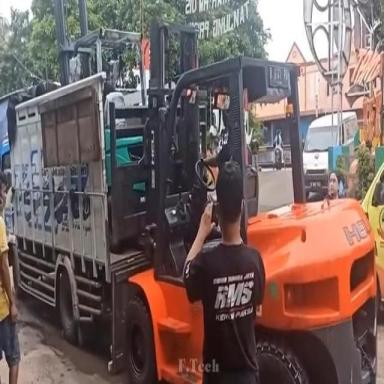forklift: (109, 9, 384, 384), (52, 0, 176, 250)
